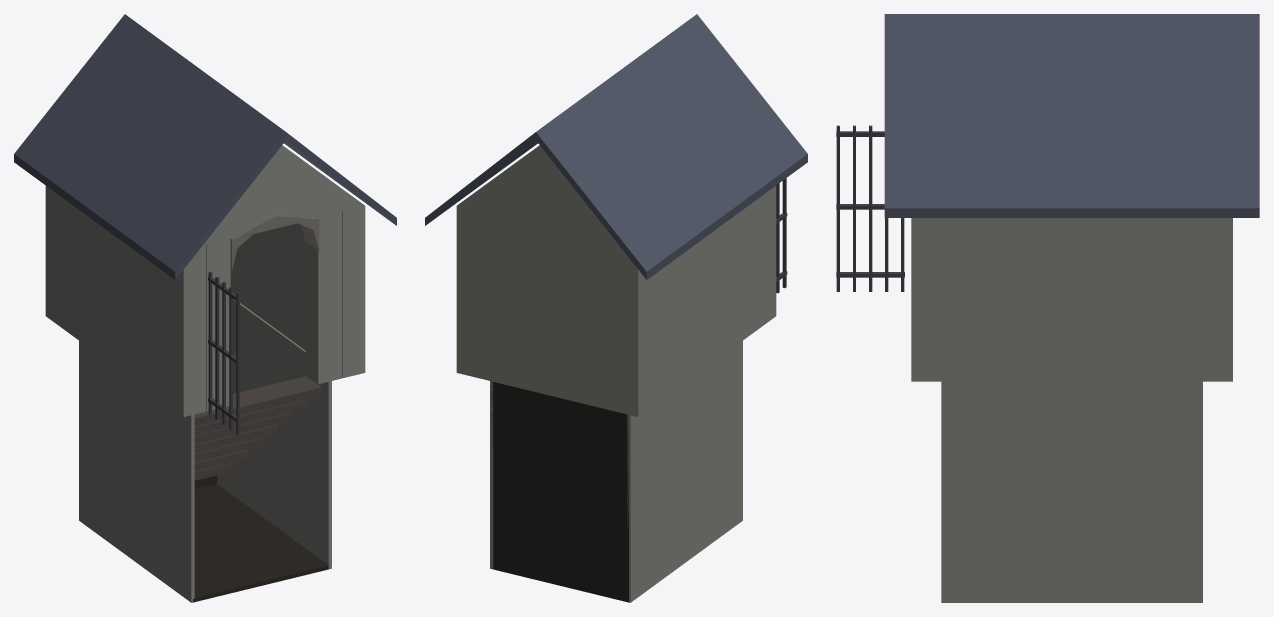
Rendered from CryptEntrance.fbx.
The picture shows the model from 3 angles, left to right: view 1: azimuth 30°, elevation 25°; view 2: azimuth 150°, elevation 25°; view 3: azimuth 270°, elevation 25°; orthographic projection. The views are drawn at different scales.
Visible parts, largest first — view 1: CryptEntrance; view 2: CryptEntrance; view 3: CryptEntrance.
Part boxes in pixels (left/top/right/bottom): CryptEntrance: left=14, top=14, right=396, bottom=602; CryptEntrance: left=425, top=14, right=807, bottom=602; CryptEntrance: left=836, top=14, right=1259, bottom=602.
Size of the model in its own units: 2.78 by 5.65 by 3.95.
